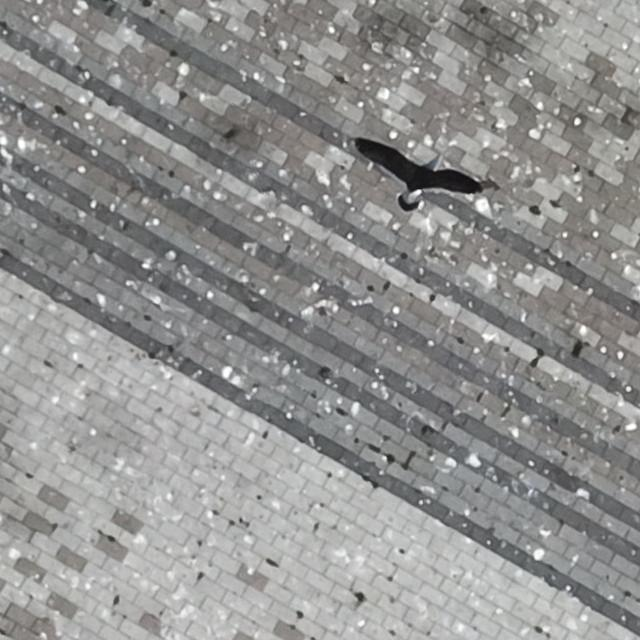F: (356, 145, 480, 208)
